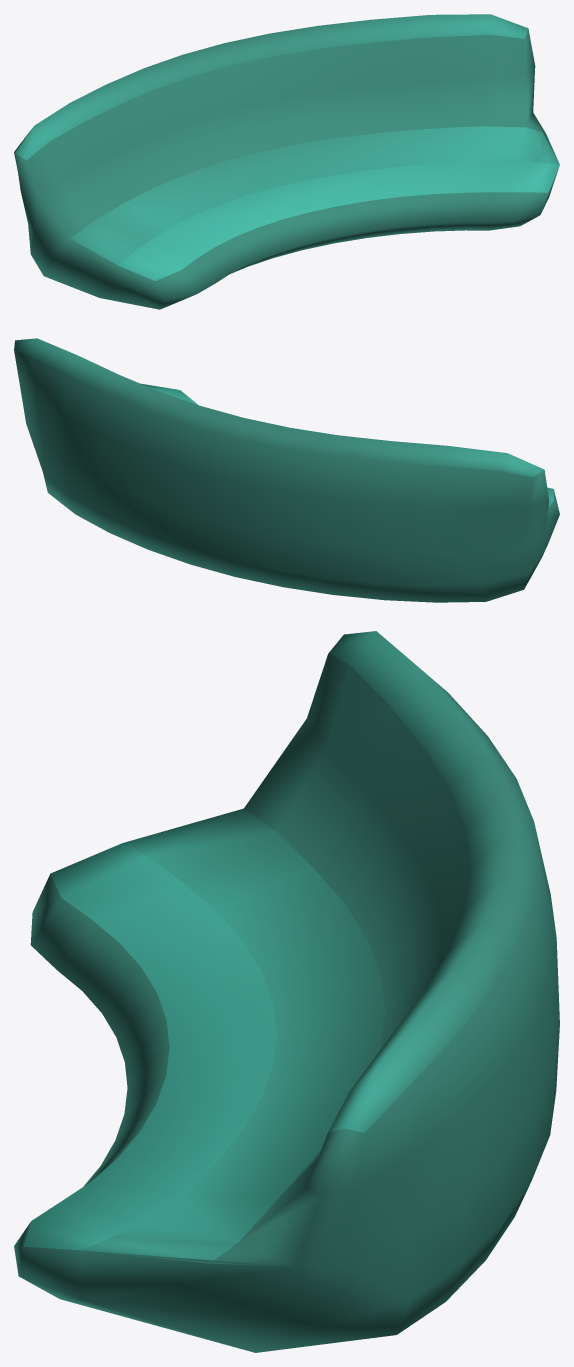
File: CurvedCouch.glb
3 views of the same model, one above another, from view 1: azimuth 30°, elevation 25°; view 2: azimuth 150°, elevation 25°; view 3: azimuth 270°, elevation 25° (orthographic). The views are drawn at different scales.
Visible parts, largest first — view 1: curvedSofa; view 2: curvedSofa; view 3: curvedSofa.
Part boxes in pixels (x1,y1,x2,y2): curvedSofa: (14,14,559,309); curvedSofa: (14,338,559,602); curvedSofa: (14,631,559,1352).
Size of what is drawn, in the model's own units: 4.43 by 1.28 by 2.07.
Materials: 1 (1 with a texture image).
